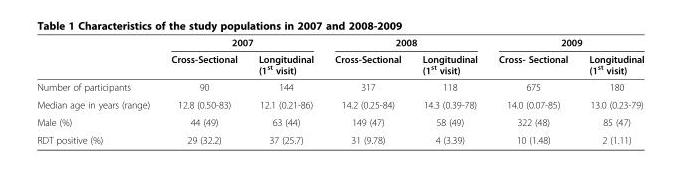table: (36, 36, 643, 145)
table column: (36, 36, 159, 145), (487, 36, 577, 145), (159, 36, 247, 145), (323, 36, 411, 145), (247, 36, 323, 145), (411, 36, 487, 145), (577, 36, 643, 145)
table column header: (36, 36, 643, 78)
table row: (36, 50, 643, 78), (36, 95, 643, 113), (36, 78, 643, 95), (36, 113, 643, 130), (36, 130, 643, 145), (36, 36, 643, 50)
table spanning cell: (159, 36, 323, 50), (323, 36, 487, 50), (487, 36, 643, 50)
